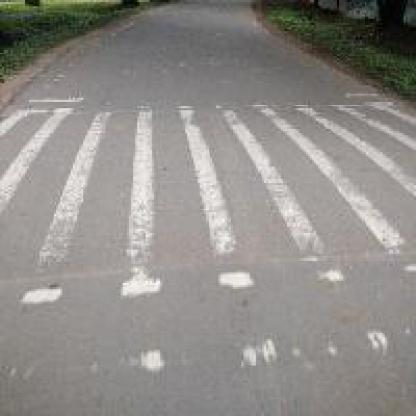Speed Bump: (2, 90, 414, 393)
